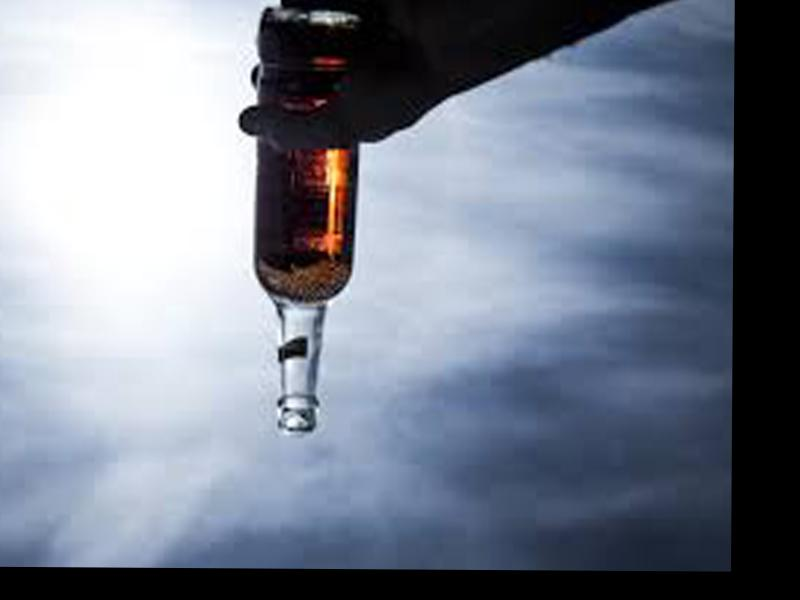Beer: (258, 13, 359, 434)
